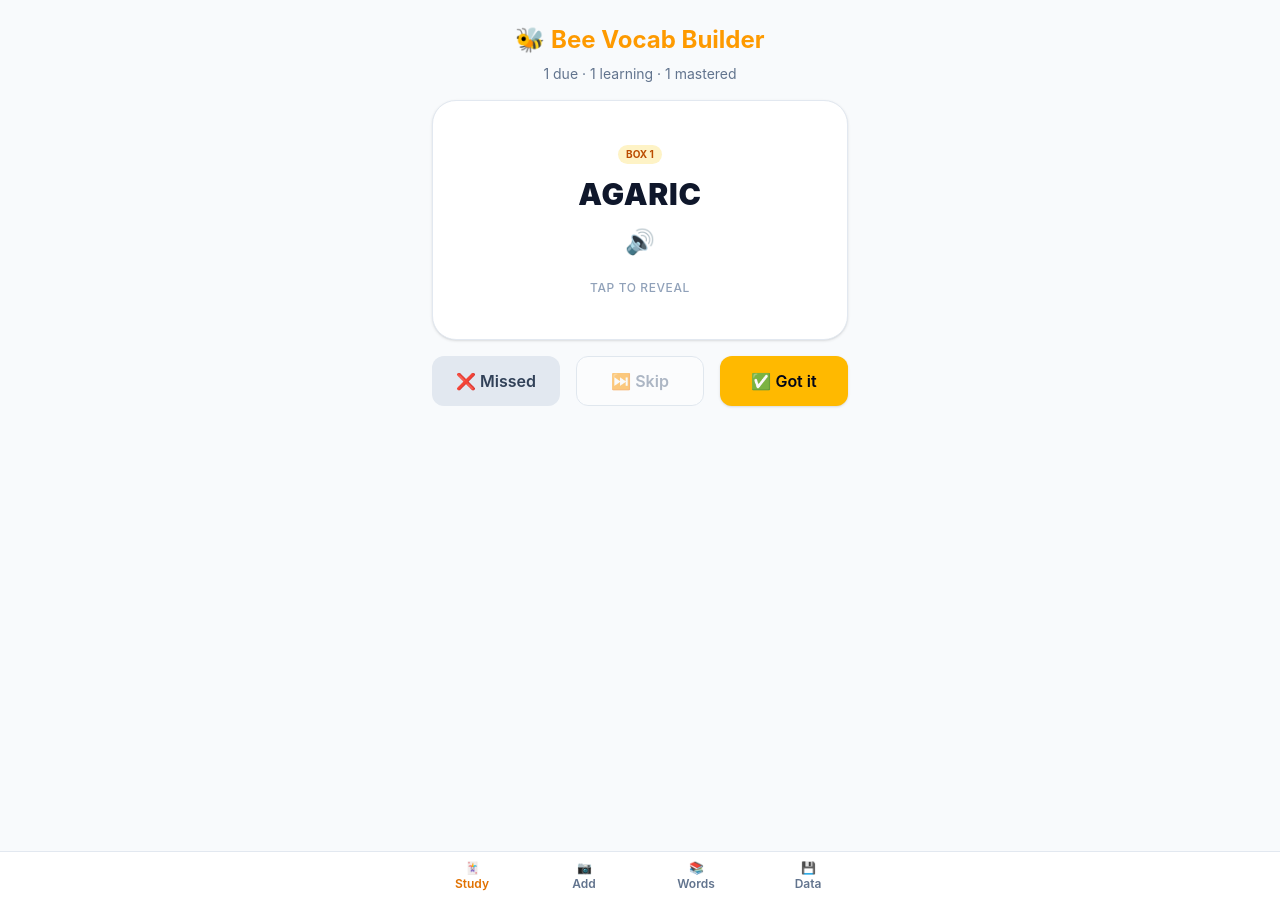
Test case: filters by status
Click the button "📚 Words" at point(696, 876), box 640,852 -> 752,899
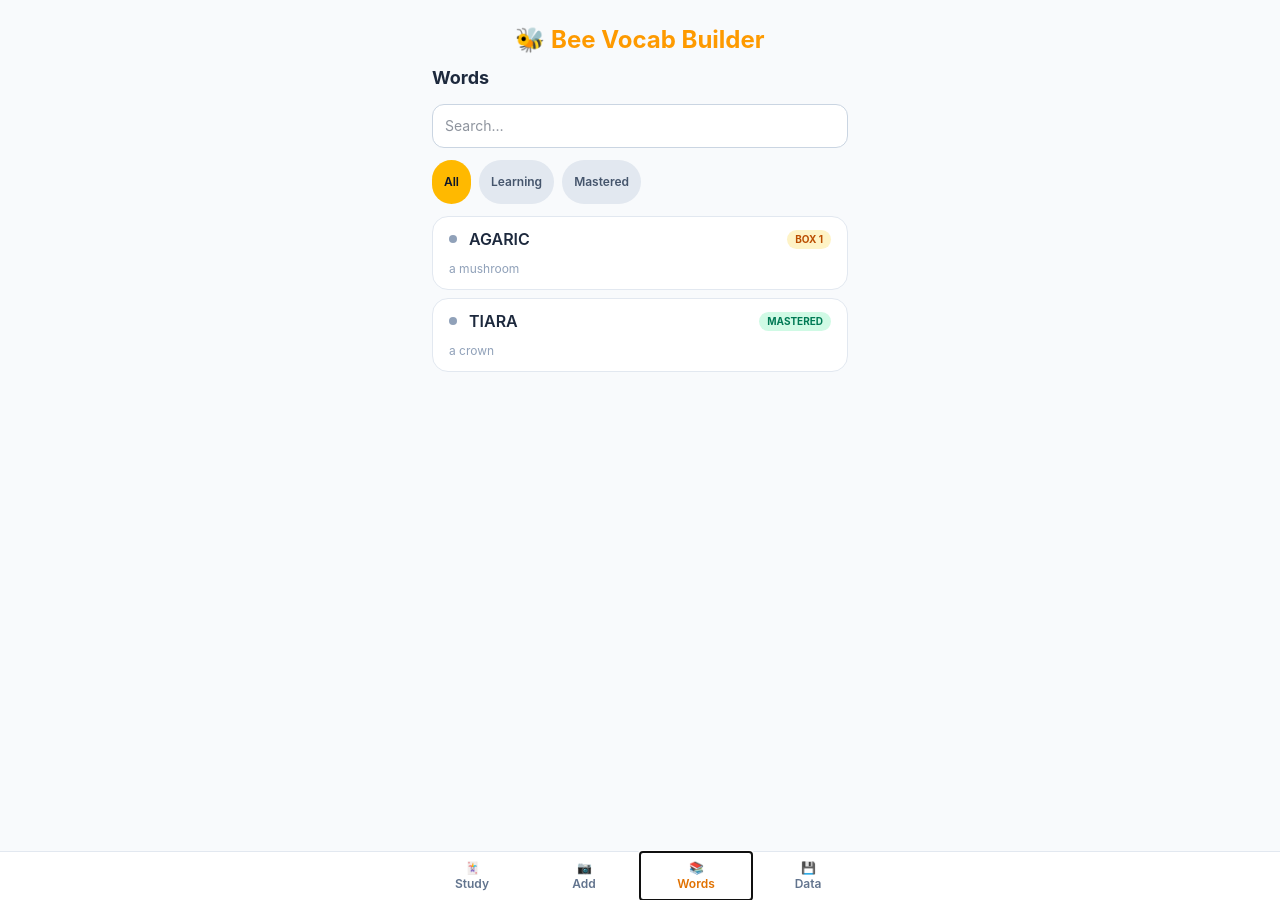
Click the button "mastered" at point(602, 182), box 562,160 -> 641,204
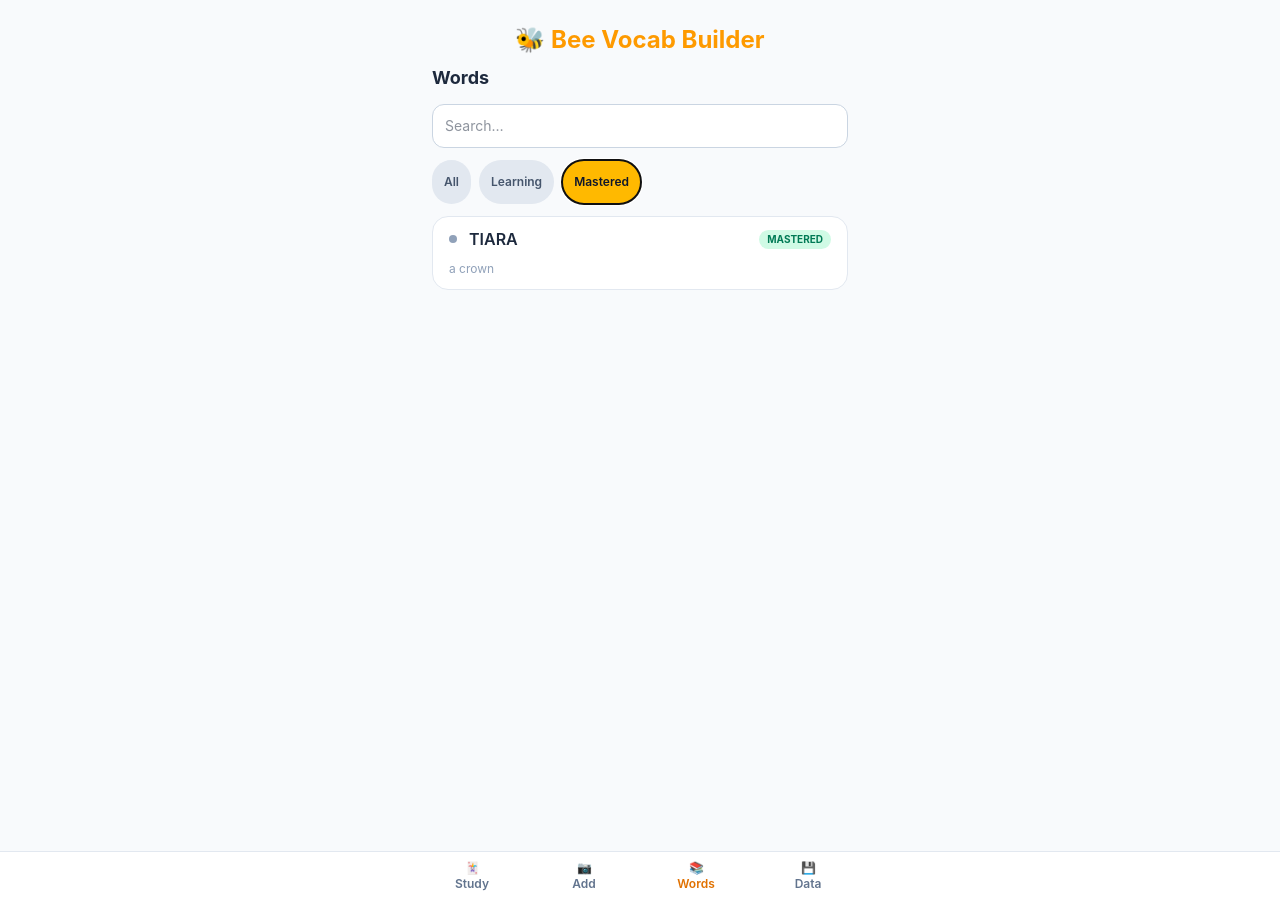
Result: the text "TIARA" is shown at 469,229 -> 518,249
Result: the button "AGARIC" is gone
